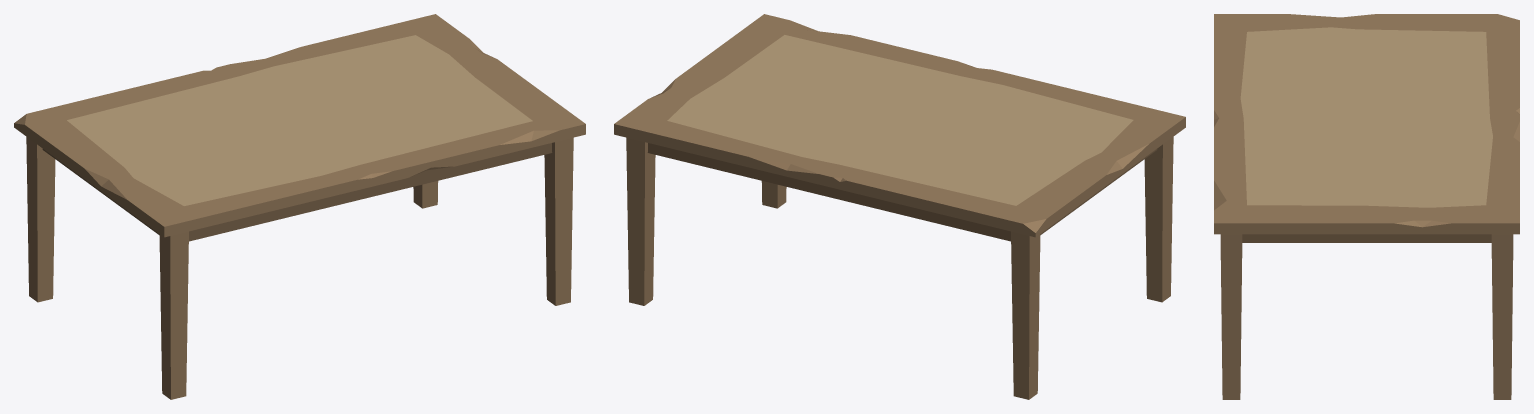
Rendered from table.glb.
3 renders of one model, left to right at view 1: azimuth 30°, elevation 25°; view 2: azimuth 150°, elevation 25°; view 3: azimuth 270°, elevation 25°, orthographic.
Visible parts, largest first — view 1: SM_Prop_DiningTable_01; view 2: SM_Prop_DiningTable_01; view 3: SM_Prop_DiningTable_01.
Part boxes in pixels (x1,y1,x2,y2): SM_Prop_DiningTable_01: (14, 14, 585, 399); SM_Prop_DiningTable_01: (614, 14, 1185, 399); SM_Prop_DiningTable_01: (1214, 14, 1519, 399).
Bounding box in the file's own units: 2.1 × 0.8528 × 1.3.
Materials: 1 (1 with a texture image).
